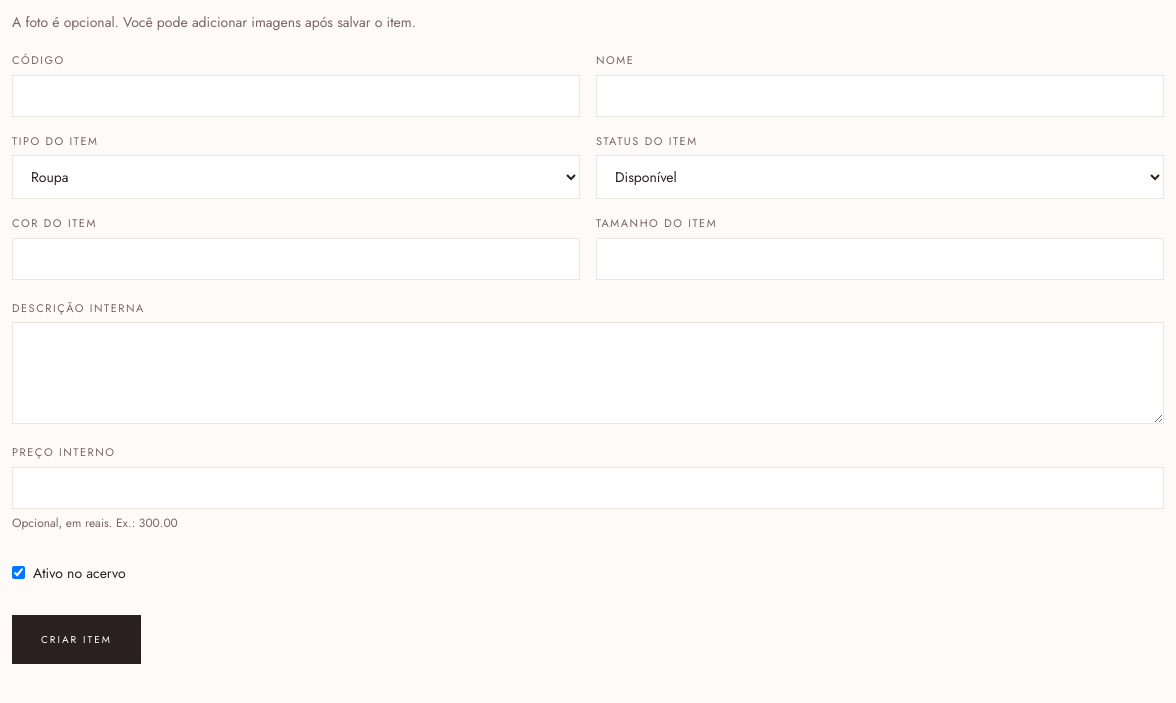
admin inventory catalog › keeps staff input after a duplicate code failure
Type "VT-01" into the field labelled "Código". click: (296, 96)
box: [12, 74, 580, 116]
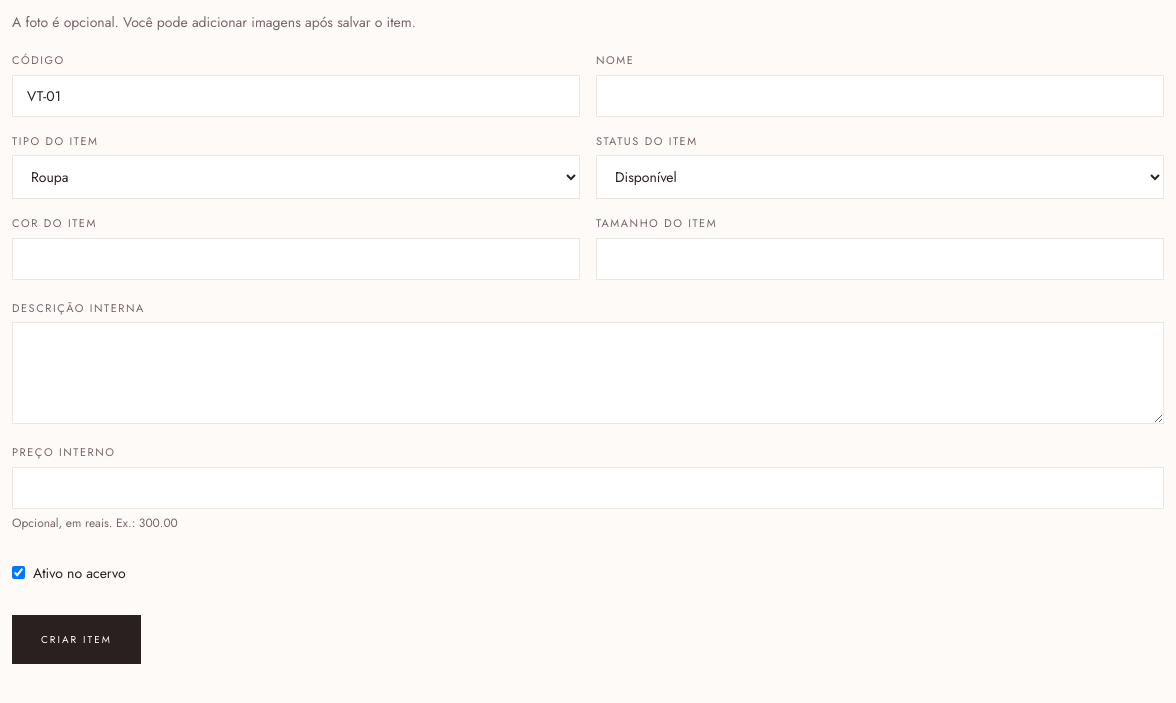
Type "Meu vestido" into the field labelled "Nome". click: (880, 96)
box: [596, 74, 1164, 116]
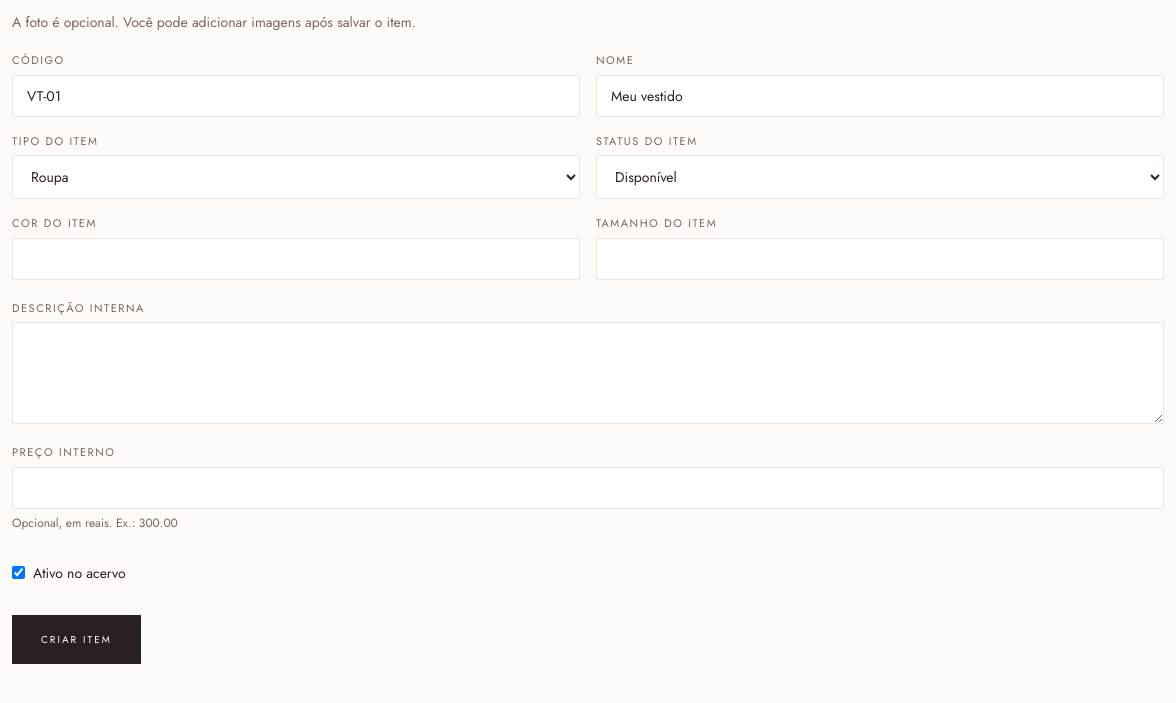
Submit the form named "Criar item"
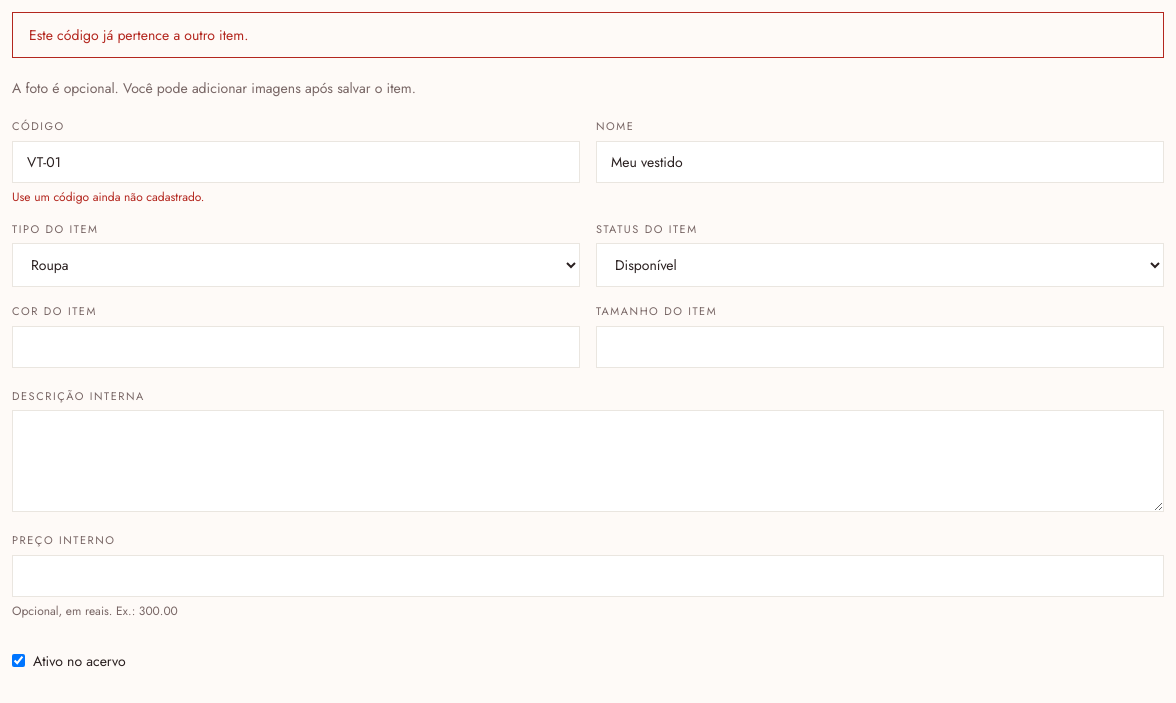
Expected: the text "Este código já pertence a outro item." is shown, [12, 12, 1164, 58]
